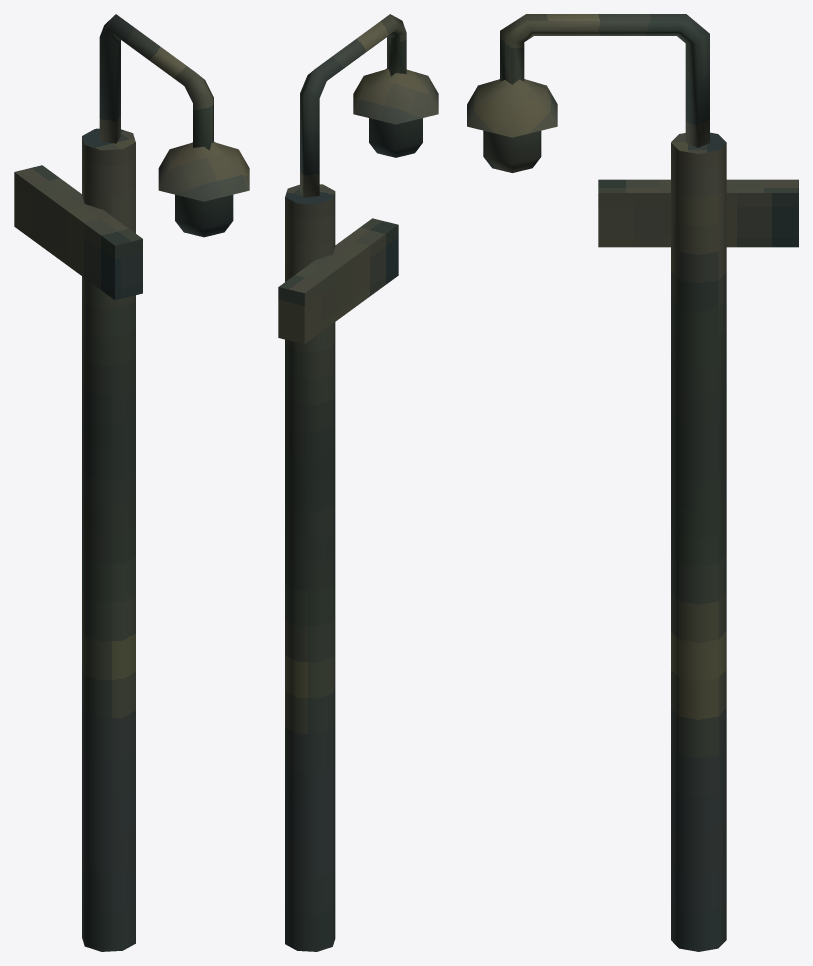
File: pole_02.FBX
The picture shows the model from 3 angles, left to right: view 1: azimuth 30°, elevation 25°; view 2: azimuth 150°, elevation 25°; view 3: azimuth 270°, elevation 25°; orthographic projection. The views are drawn at different scales.
Parts seen in each view (by area): view 1: Cylinder001; view 2: Cylinder001; view 3: Cylinder001.
Part boxes in pixels (x1,y1,x2,y2): Cylinder001: (14, 14, 249, 951); Cylinder001: (278, 14, 438, 951); Cylinder001: (467, 14, 798, 951).
Size of the model in its own units: 50.67 by 492 by 160.
